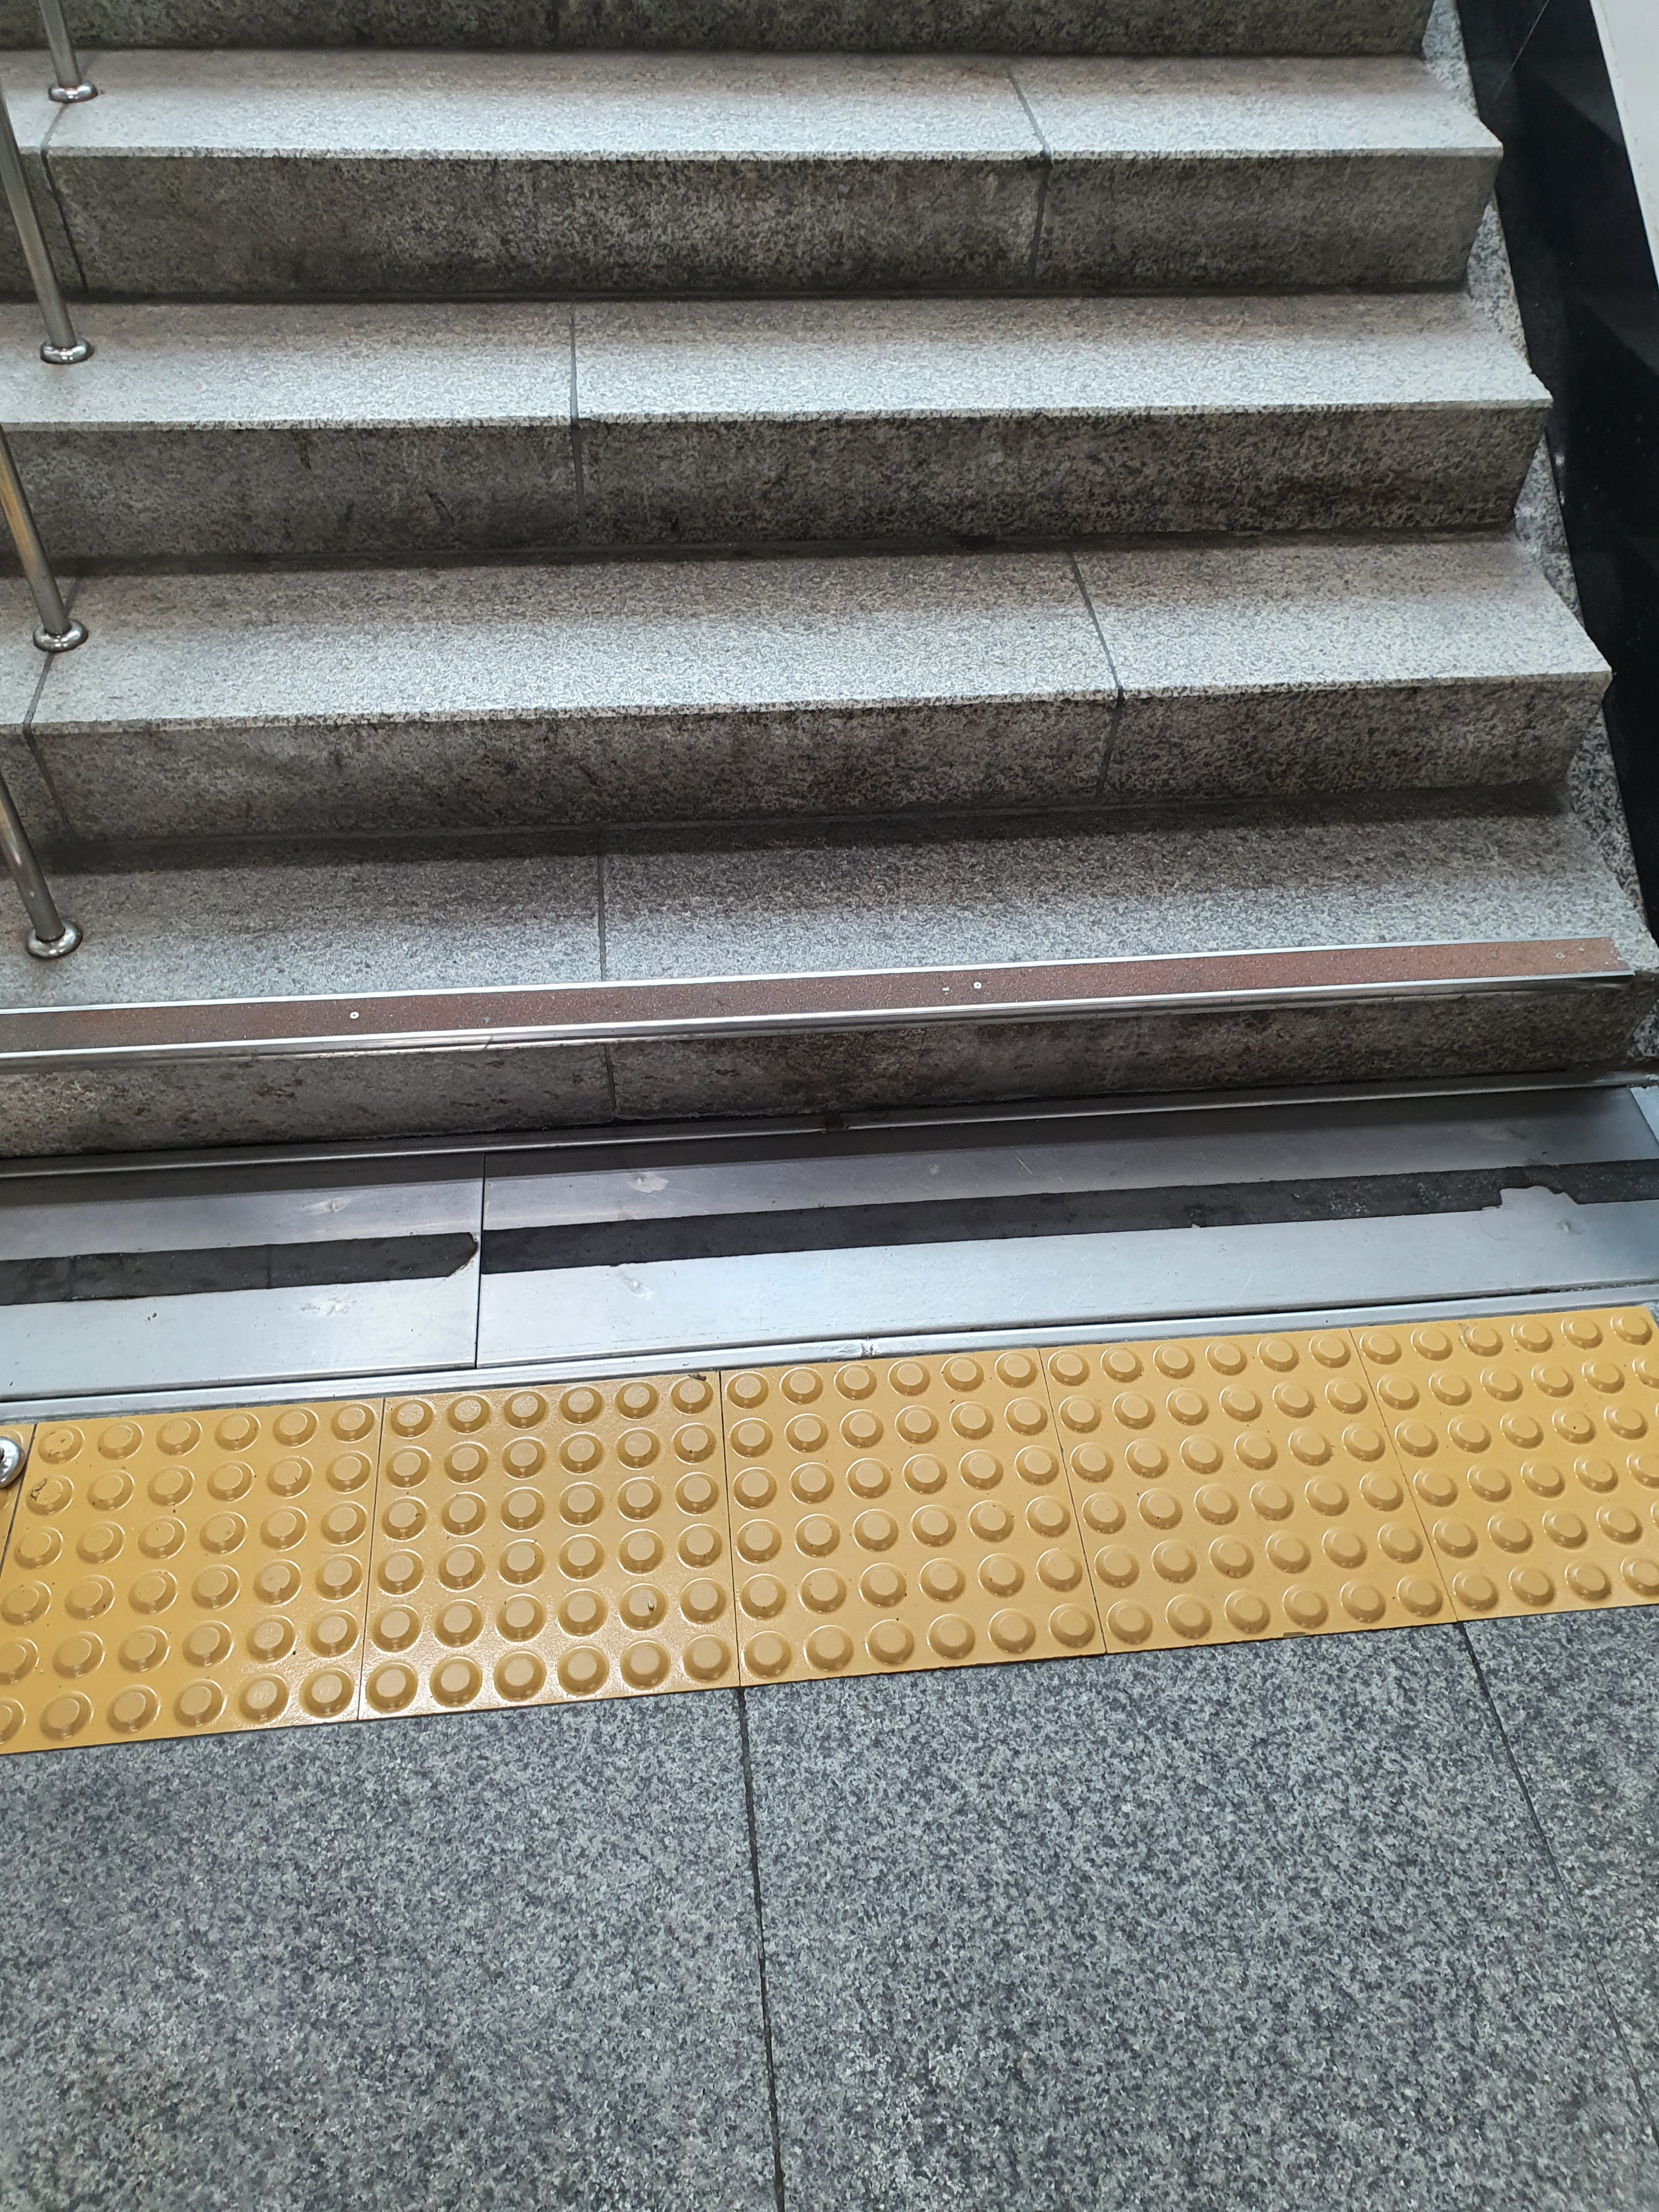warningBlock: (30, 1402, 422, 1743), (376, 1385, 746, 1714), (1065, 1332, 1424, 1669), (732, 1366, 1072, 1667), (1408, 1308, 1659, 1622)
